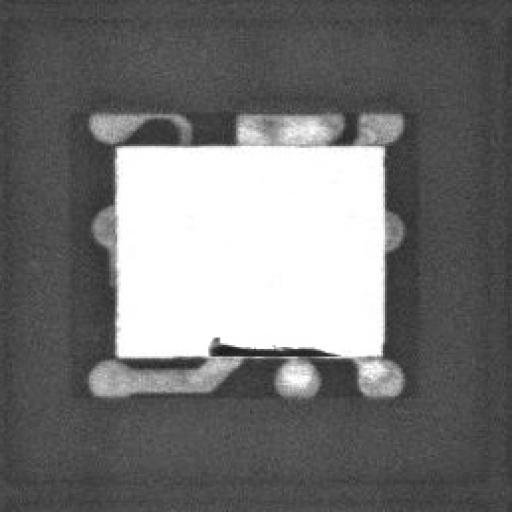DIE_BROKEN: (200, 332, 340, 356)
